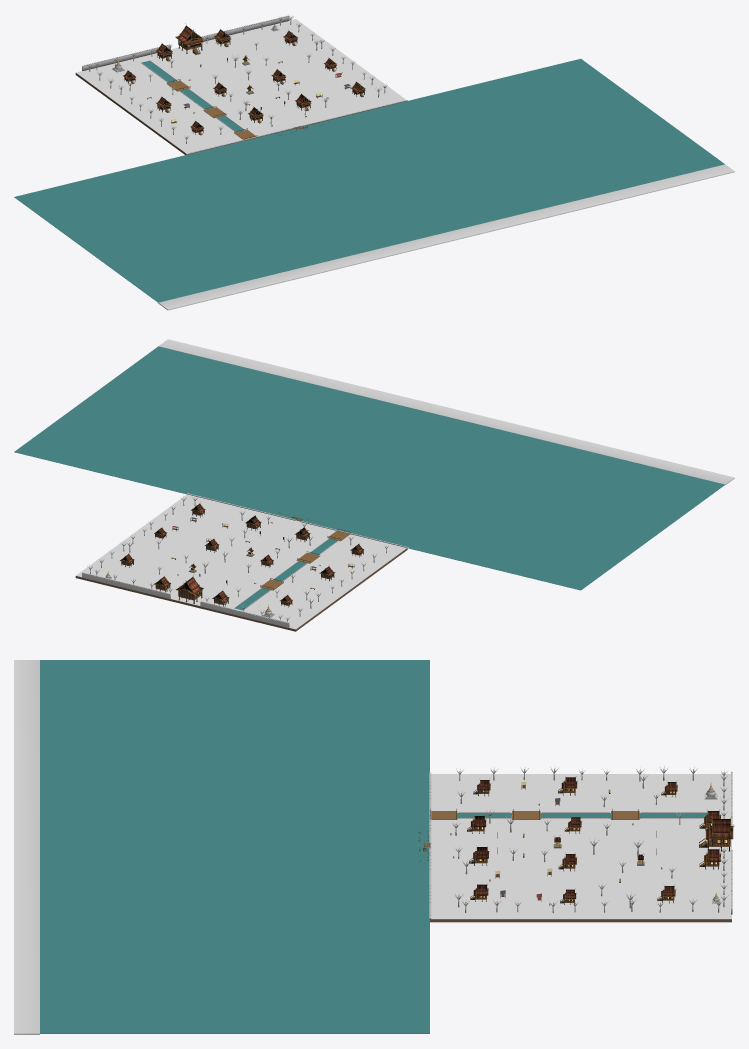
Rendered from ayutthaya.glb.
The picture shows the model from 3 angles, top to bottom: view 1: azimuth 30°, elevation 25°; view 2: azimuth 150°, elevation 25°; view 3: azimuth 270°, elevation 25°; orthographic projection. The views are drawn at different scales.
Visible parts, largest first — view 1: River · water, Meadow ground19 · ground19, Distant green bank · canopy_dark, City rampart · plaster, Tree branches · bark19, Garden canal · water, Tree trunks · bark19; view 2: River · water, Meadow ground19 · ground19, Distant green bank · canopy_dark, City rampart · plaster, Capital terrain · earth, Garden canal · water, Tree branches · bark19, Tree trunks · bark19; view 3: River · water, Meadow ground19 · ground19, Distant green bank · canopy_dark, Capital terrain · earth, Tree branches · bark19, Tree trunks · bark19, Garden canal · water, Canal bridge · wood_light.
Boxes of the visible parts, bbox=[...] form: River · water: bbox=[14, 58, 724, 302]; Meadow ground19 · ground19: bbox=[76, 19, 405, 153]; Distant green bank · canopy_dark: bbox=[158, 164, 734, 310]; City rampart · plaster: bbox=[82, 15, 289, 70]; Tree branches · bark19: bbox=[88, 14, 387, 139]; Garden canal · water: bbox=[142, 60, 243, 132]; Tree trunks · bark19: bbox=[89, 16, 385, 143]; River · water: bbox=[14, 346, 724, 590]; Meadow ground19 · ground19: bbox=[76, 494, 406, 629]; Distant green bank · canopy_dark: bbox=[159, 339, 734, 485]; City rampart · plaster: bbox=[82, 572, 289, 627]; Capital terrain · earth: bbox=[75, 548, 407, 631]; Garden canal · water: bbox=[235, 538, 337, 610]; Tree branches · bark19: bbox=[87, 495, 388, 620]; Tree trunks · bark19: bbox=[90, 497, 386, 621]; River · water: bbox=[40, 660, 429, 1033]; Meadow ground19 · ground19: bbox=[430, 774, 731, 919]; Distant green bank · canopy_dark: bbox=[14, 660, 39, 1034]; Capital terrain · earth: bbox=[430, 919, 731, 922]; Tree branches · bark19: bbox=[452, 766, 728, 906]; Tree trunks · bark19: bbox=[455, 768, 724, 913]; Garden canal · water: bbox=[457, 813, 707, 818]; Canal bridge · wood_light: bbox=[429, 811, 639, 819].
Size of the model in its own units: 340 by 14.21 by 277.
